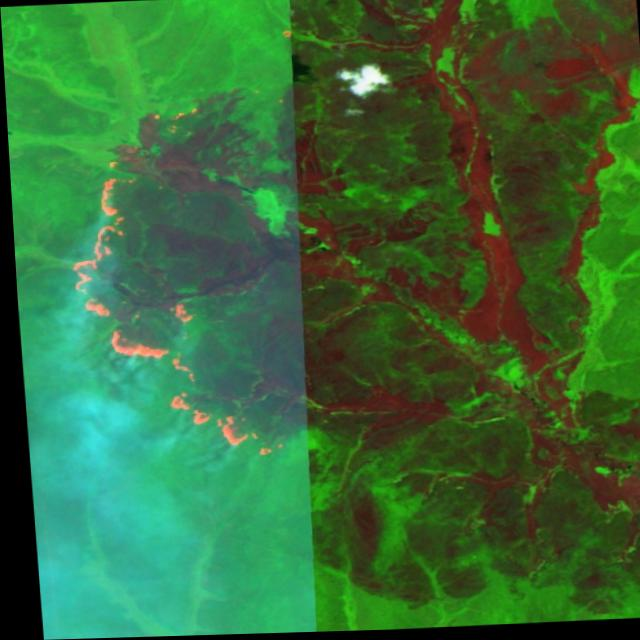fire: (49, 104, 284, 469)
